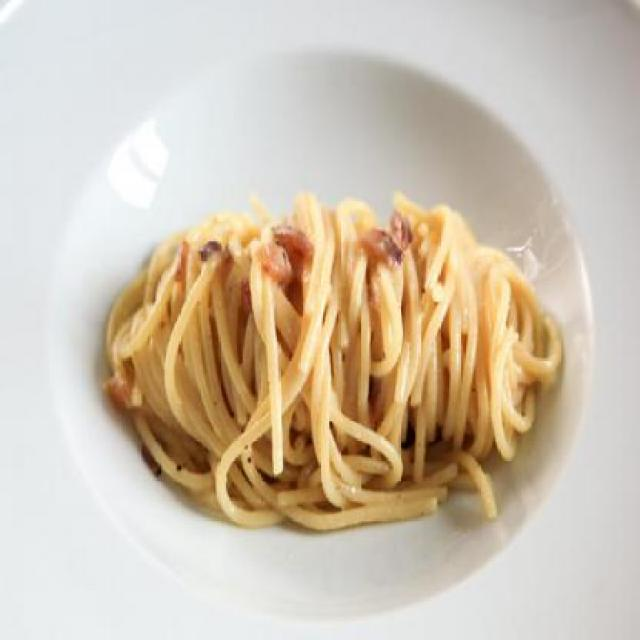Pasta with carbonara sauce: (69, 175, 609, 534)
